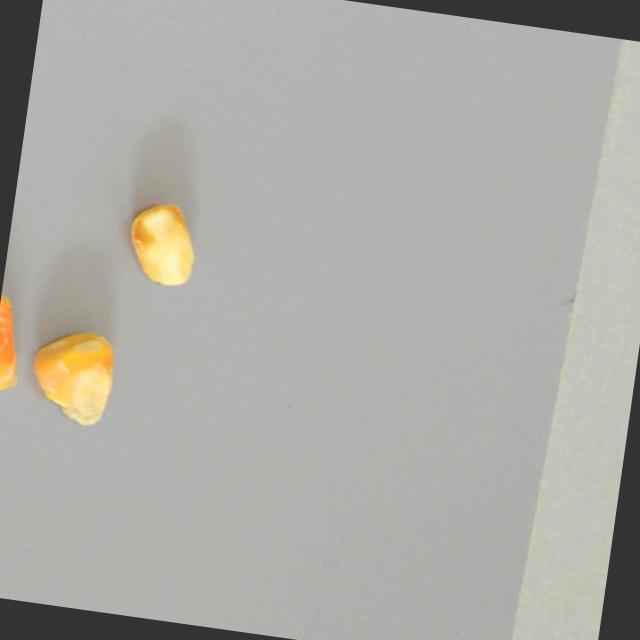entero: (23, 323, 119, 431)
pelicula: (123, 196, 204, 291), (0, 285, 30, 398)
